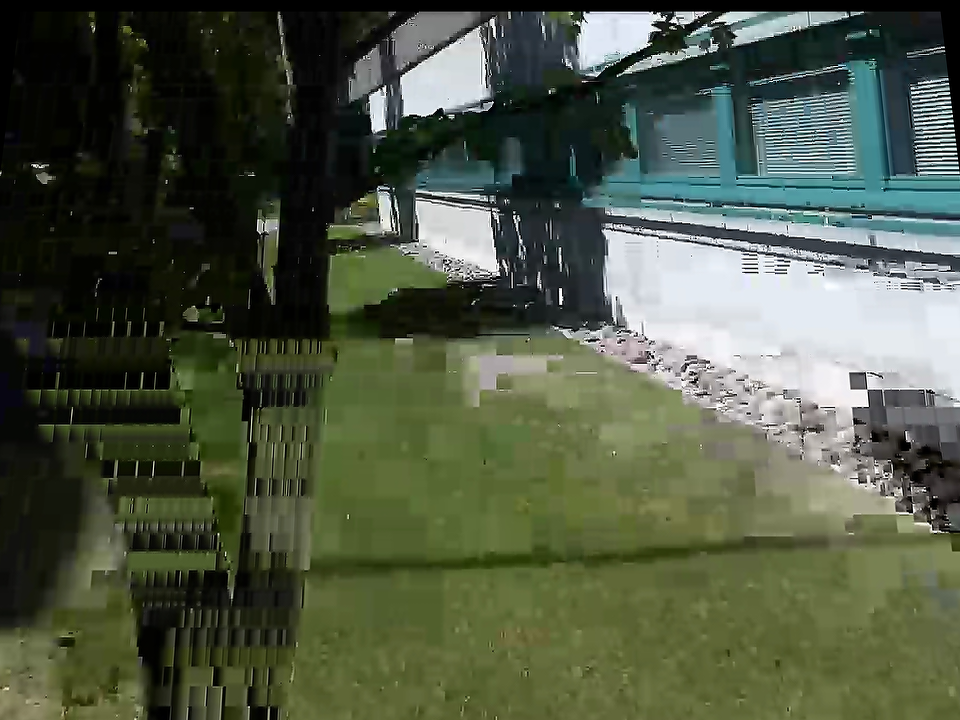branch: (324, 99, 498, 210), (460, 52, 624, 157), (557, 30, 666, 113)
trunk: (60, 65, 351, 712)
